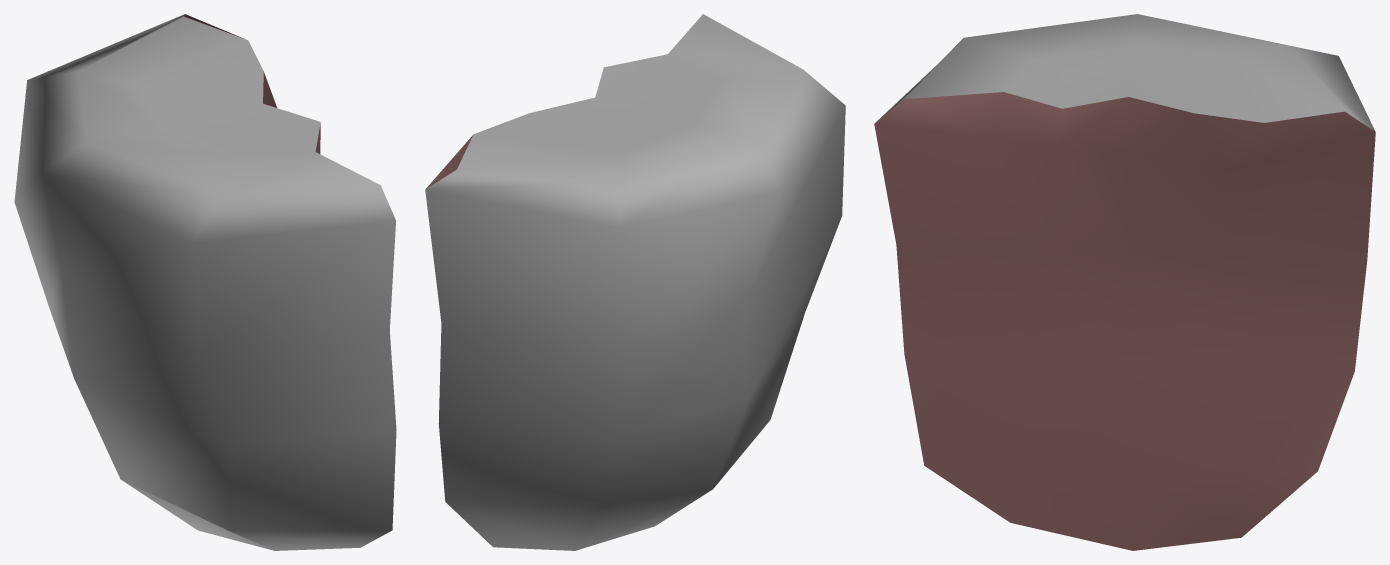
The picture shows the model from 3 angles, left to right: view 1: azimuth 30°, elevation 25°; view 2: azimuth 150°, elevation 25°; view 3: azimuth 270°, elevation 25°; orthographic projection.
Visible parts, largest first — view 1: p1_2; view 2: p1_2; view 3: p1_2.
Part boxes in pixels (left/top/right/bottom): p1_2: left=14, top=14, right=396, bottom=550; p1_2: left=425, top=14, right=845, bottom=550; p1_2: left=874, top=14, right=1375, bottom=550.
Bounding box in the file's own units: 4.38 × 7.04 × 7.4.
